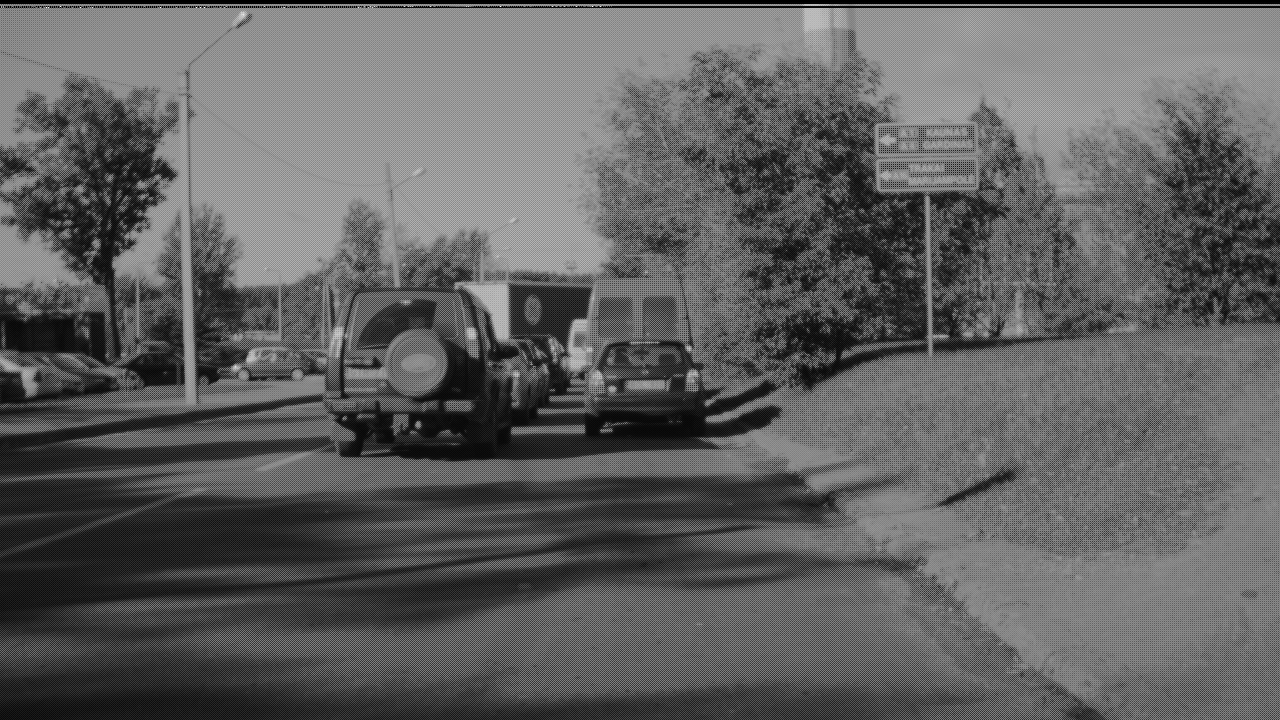pole: (176, 61, 200, 395), (383, 155, 401, 278)
